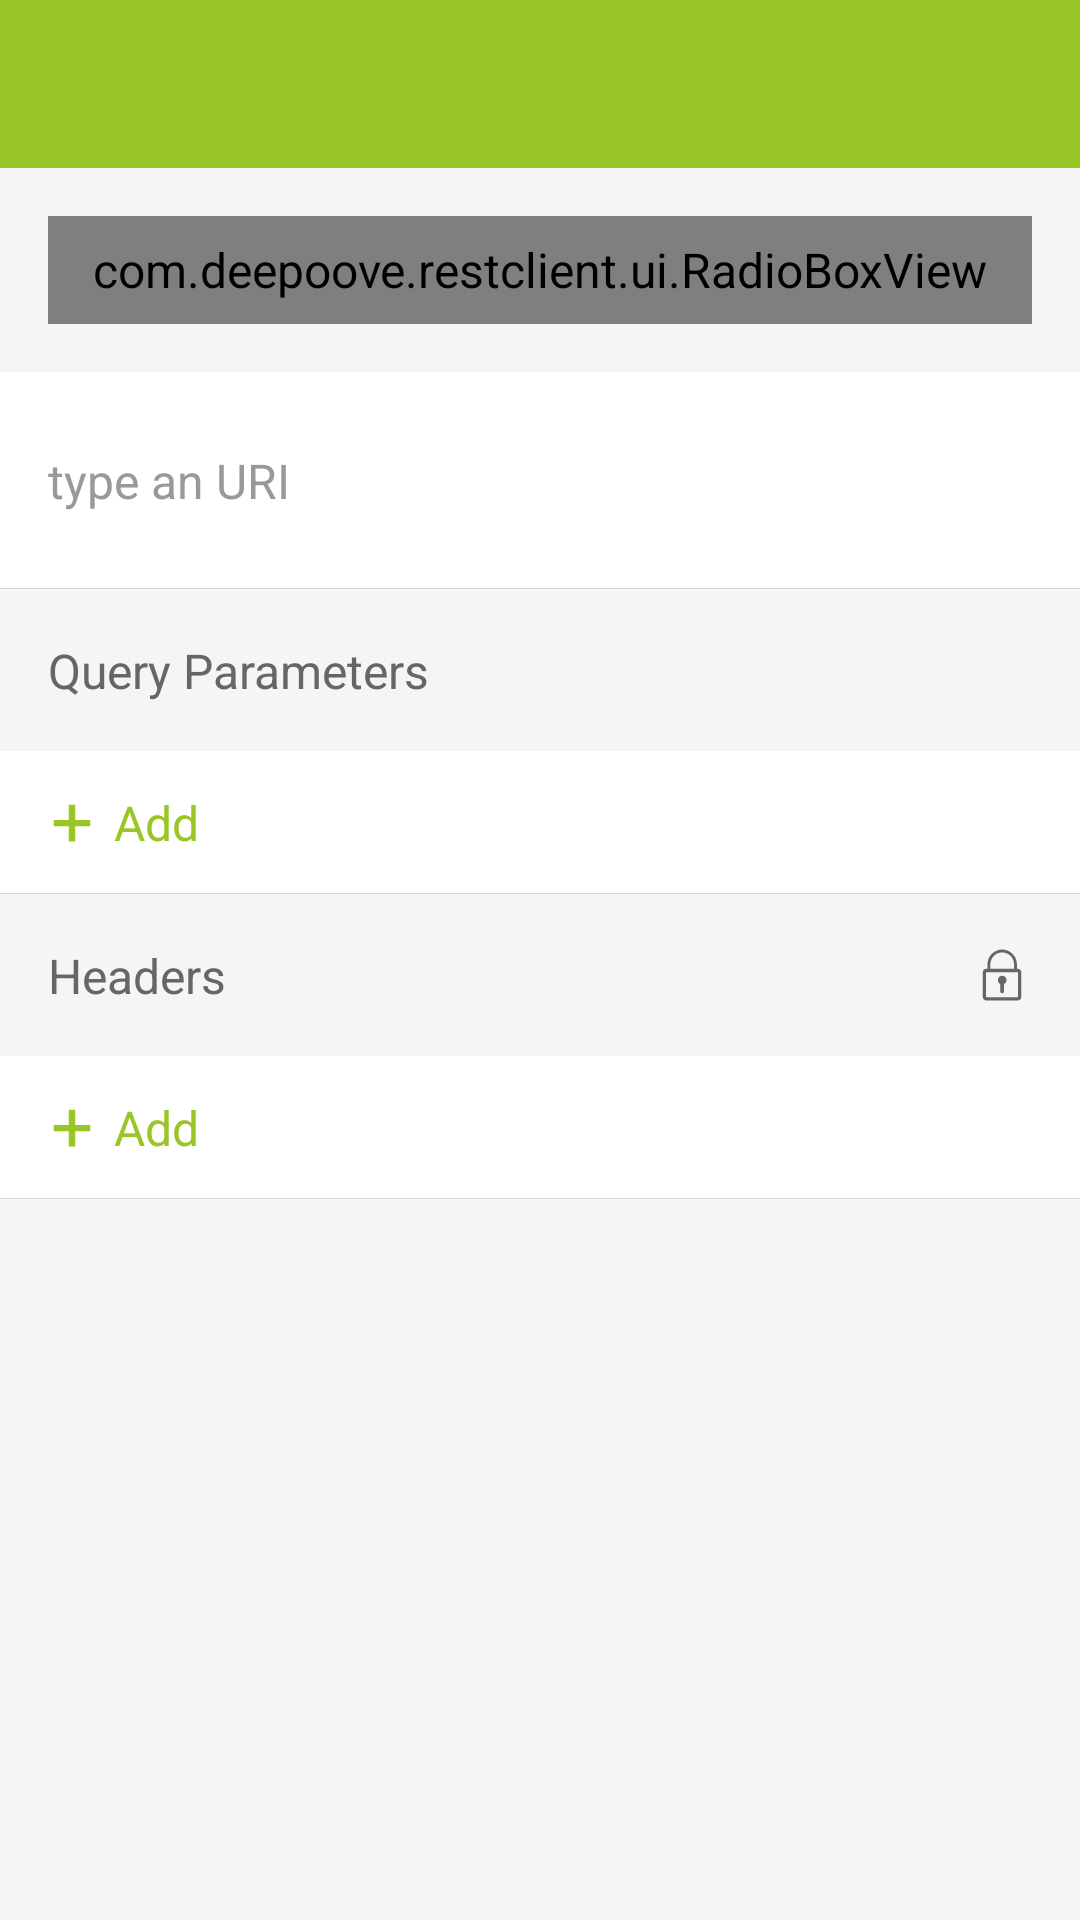

Screen size 1080 x 1920. Icon name, then its center in pixels as point (x, y):
auth invalid: point (1002, 975)
